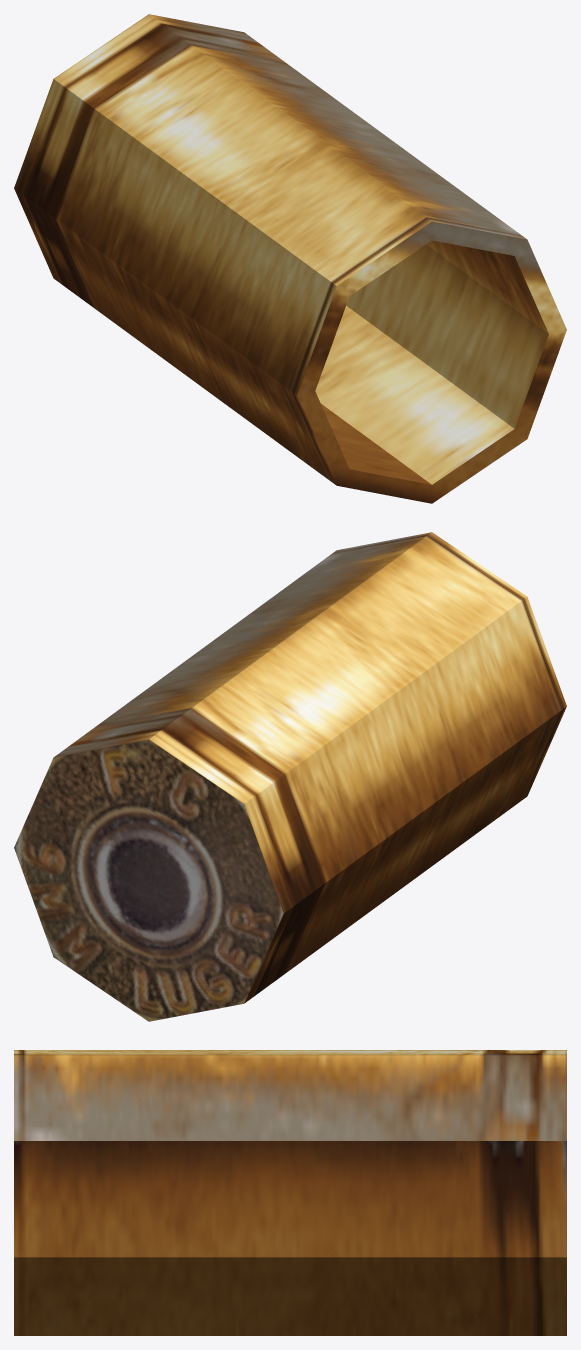
Rendered from Handgun9mm_Shell.fbx.
3 views of the same model, one above another, from view 1: azimuth 30°, elevation 25°; view 2: azimuth 150°, elevation 25°; view 3: azimuth 270°, elevation 25° (orthographic). The views are drawn at different scales.
Parts seen in each view (by area): view 1: Handgun9mm_Shell; view 2: Handgun9mm_Shell; view 3: Handgun9mm_Shell.
Part boxes in pixels (x1,y1,x2,y2): Handgun9mm_Shell: (14, 14, 566, 503); Handgun9mm_Shell: (14, 532, 566, 1021); Handgun9mm_Shell: (14, 1050, 566, 1335).
Size of the model in its own units: 0.935 by 0.935 by 1.7.
